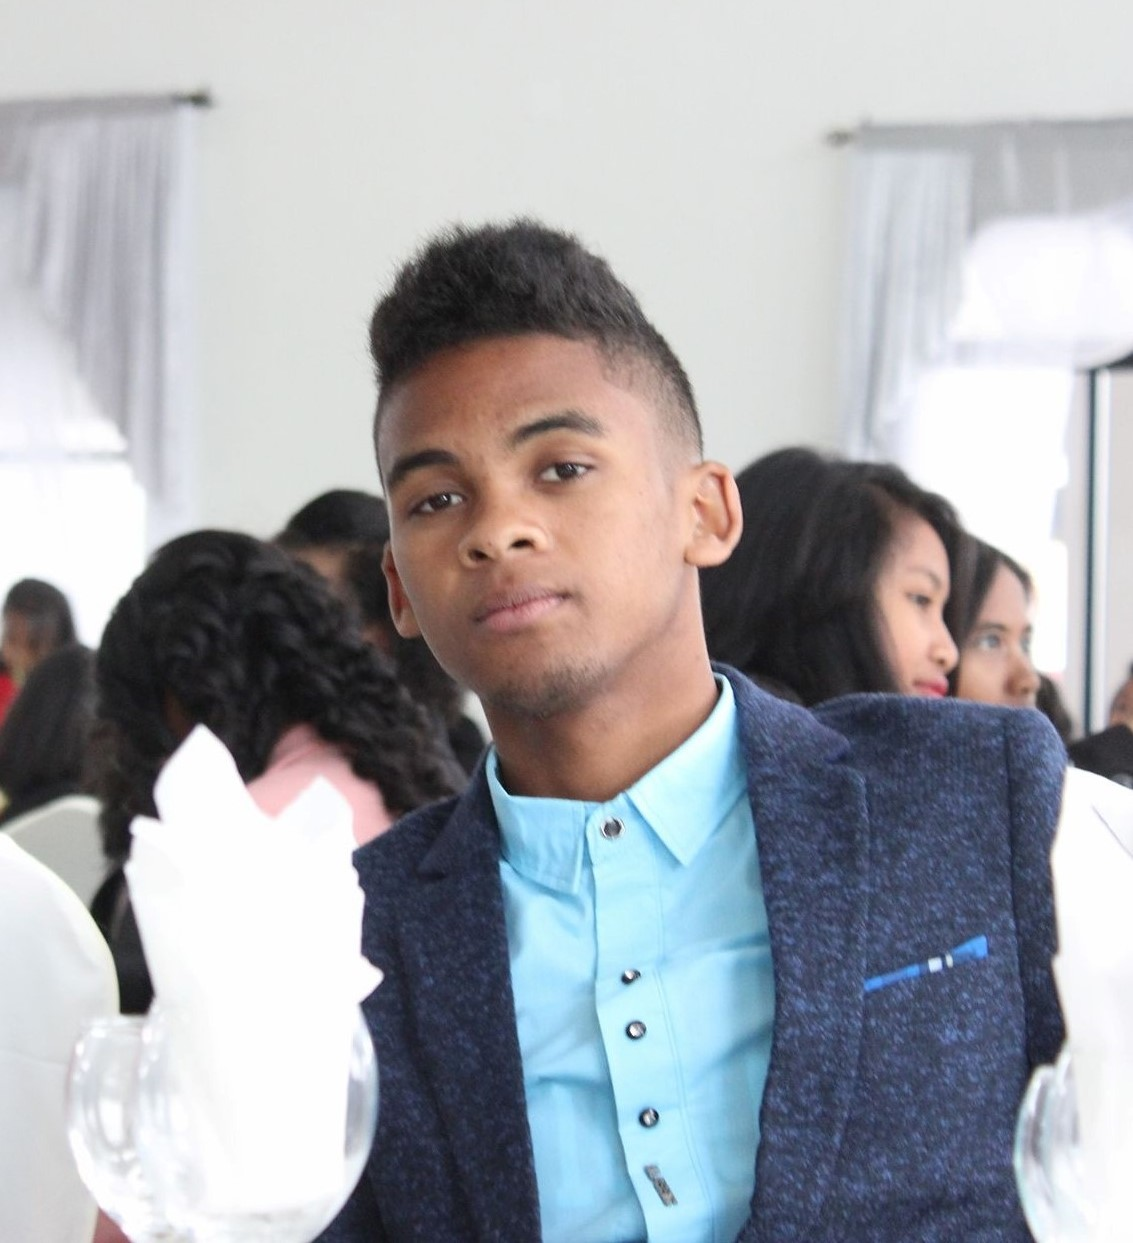BOY: (350, 211, 746, 705)
